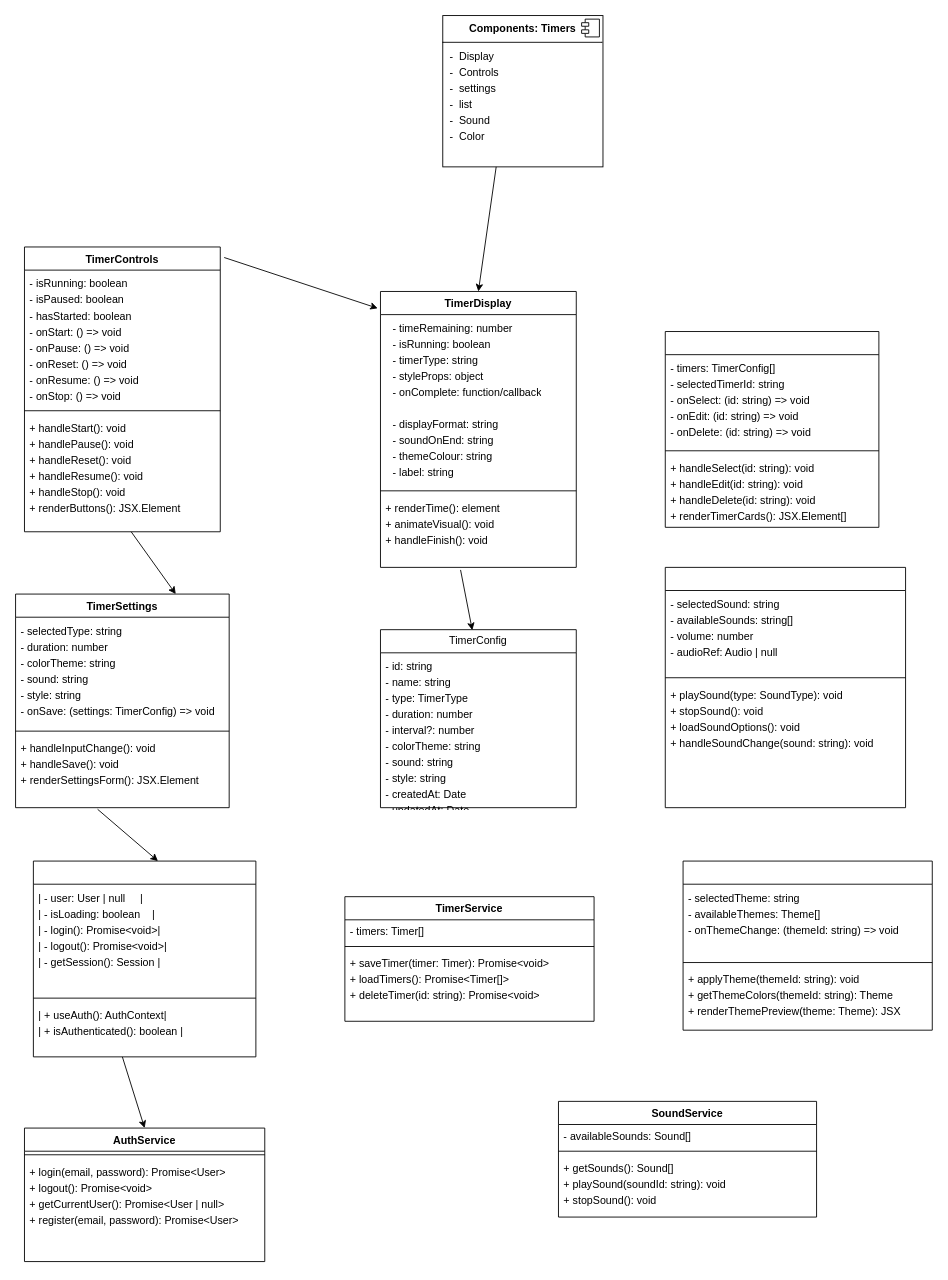
The diagram is 948 pixels wide and 1280 high, and some of its shapes have lost their labels. Here are the shapes that lost their labels. From the top down, the box of each, then its label:
(664, 331, 879, 527): TimerList
(664, 566, 906, 808): TimerSound
(32, 860, 256, 1057): AuthProvider
(682, 860, 932, 1030): TimerColourTheme
